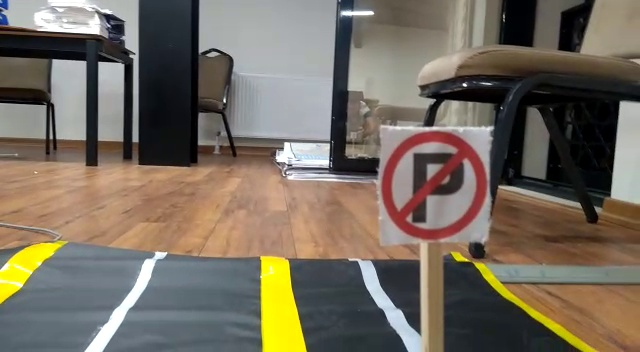park_yapilmaz: (381, 130, 489, 239)
